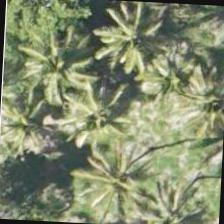Kelapa_Sawit: (5, 16, 100, 111), (79, 0, 174, 89)
